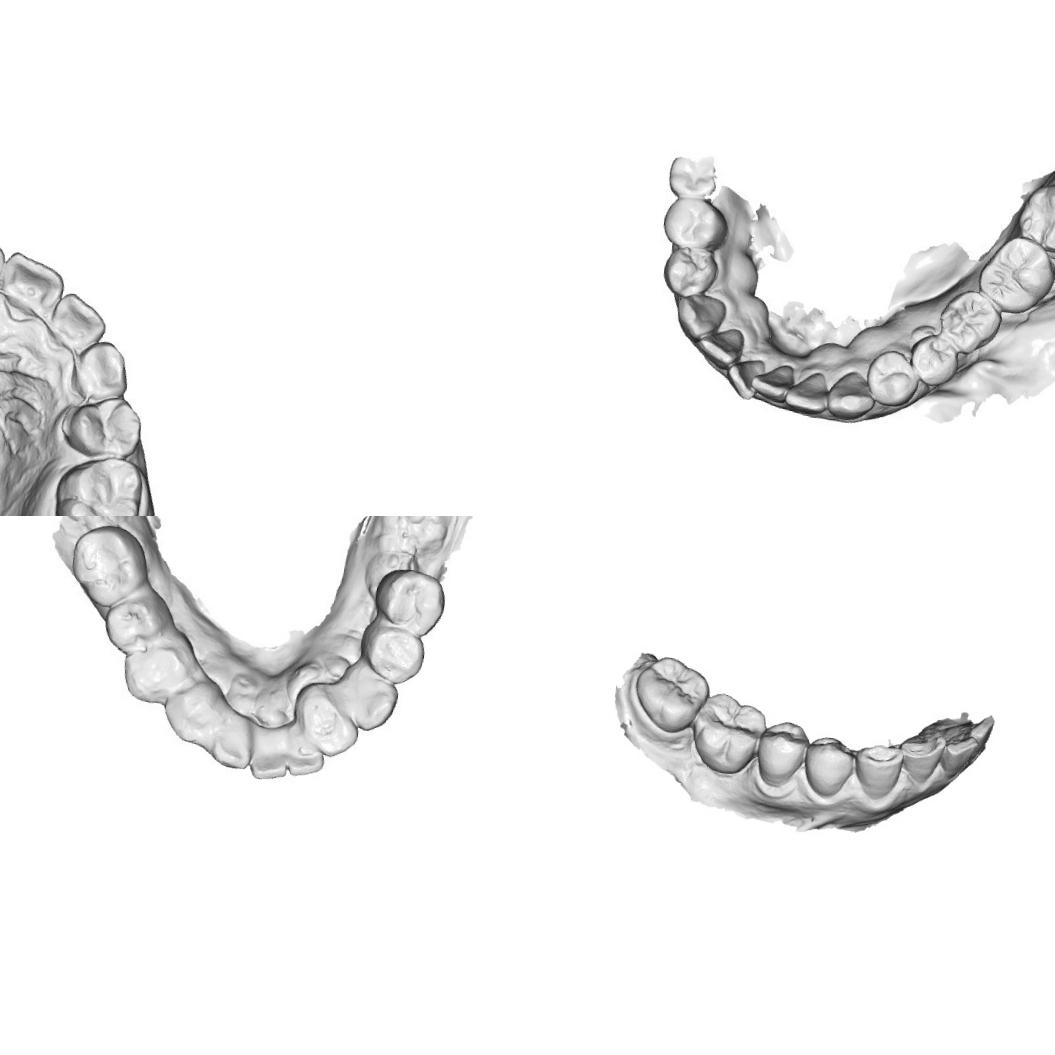canine: (68, 335, 136, 403), (162, 678, 224, 745), (849, 740, 906, 803), (347, 670, 401, 730), (824, 367, 879, 424), (671, 292, 729, 344)
incisor: (0, 246, 66, 315), (300, 688, 362, 757), (51, 290, 106, 352), (895, 730, 946, 787), (206, 714, 254, 772), (281, 723, 328, 780), (782, 367, 832, 416), (694, 323, 746, 369), (748, 359, 796, 406), (938, 732, 980, 785), (249, 730, 290, 782), (722, 355, 766, 402), (952, 710, 996, 748)
molar: (61, 519, 146, 614), (628, 652, 714, 739), (686, 688, 769, 778), (972, 230, 1055, 319), (51, 452, 146, 516), (933, 285, 1006, 358), (1012, 178, 1055, 257)
premolar: (373, 564, 449, 642), (64, 394, 142, 462), (102, 589, 170, 661), (123, 639, 192, 706), (752, 716, 812, 791), (659, 193, 732, 252), (861, 346, 922, 411), (659, 242, 724, 303), (800, 732, 857, 801), (367, 622, 425, 682), (906, 332, 964, 390)
